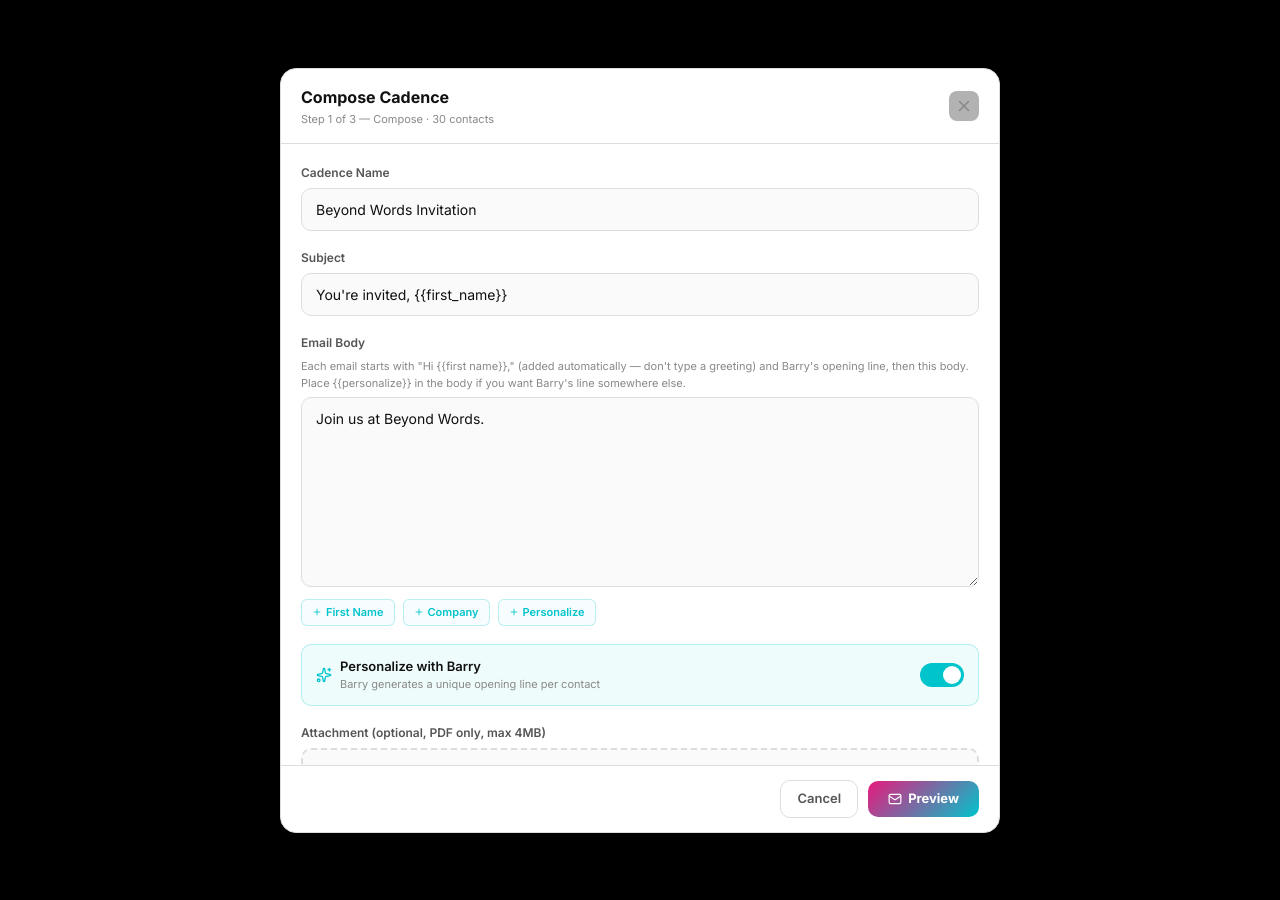
BulkComposeModal — imported group › accepts more than 25 people and personalizes them in chunks of 25
The width and height of the screenshot is (1280, 900).
expect the text "Step 1 of 3 — Compose · 30 contacts" is shown: met, box 301,110 -> 494,127
Step 1. Click the button "Preview" → click(924, 799), box 868,781 -> 979,816
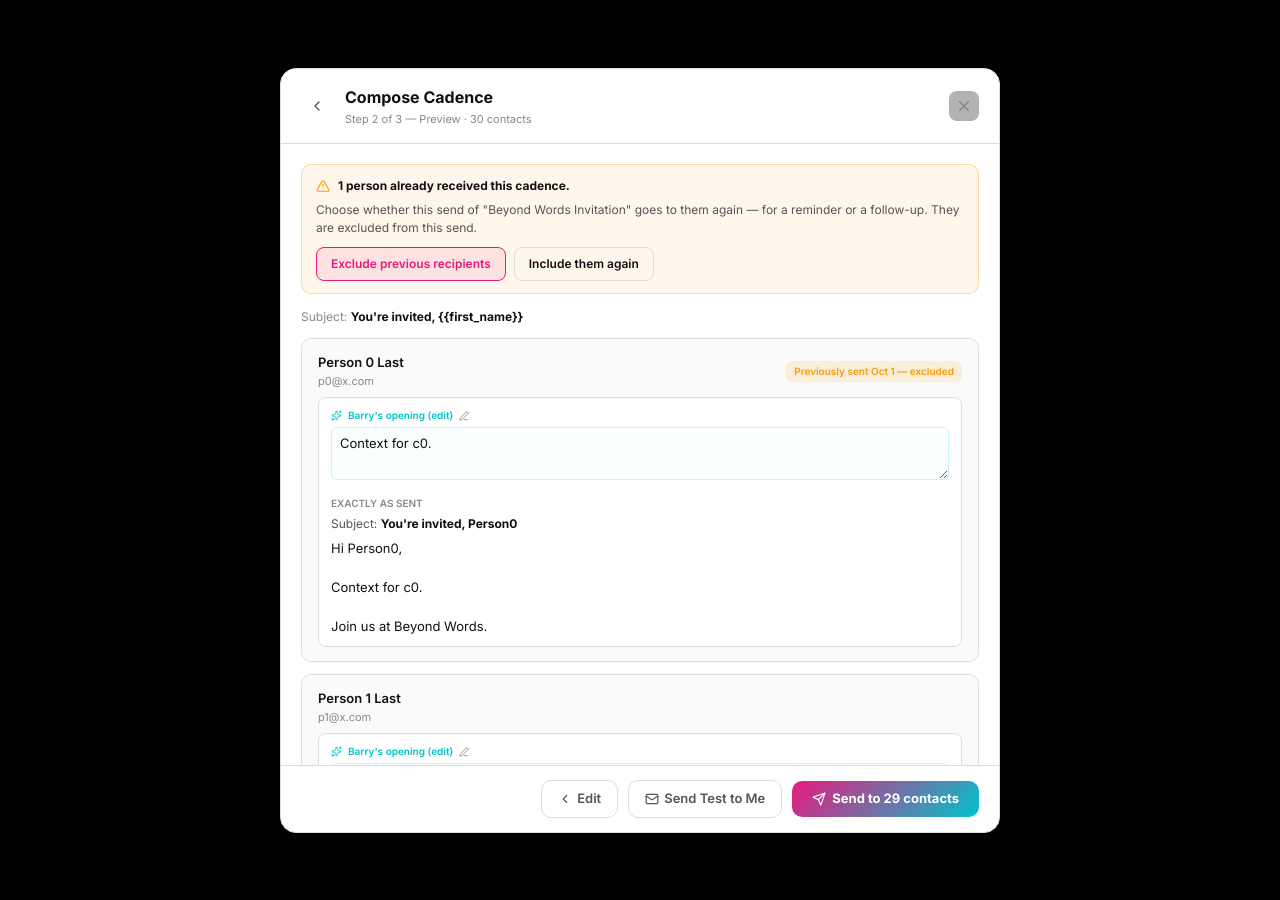
expect the text "1 person already received this cadence." is shown: met, box 338,177 -> 570,195
